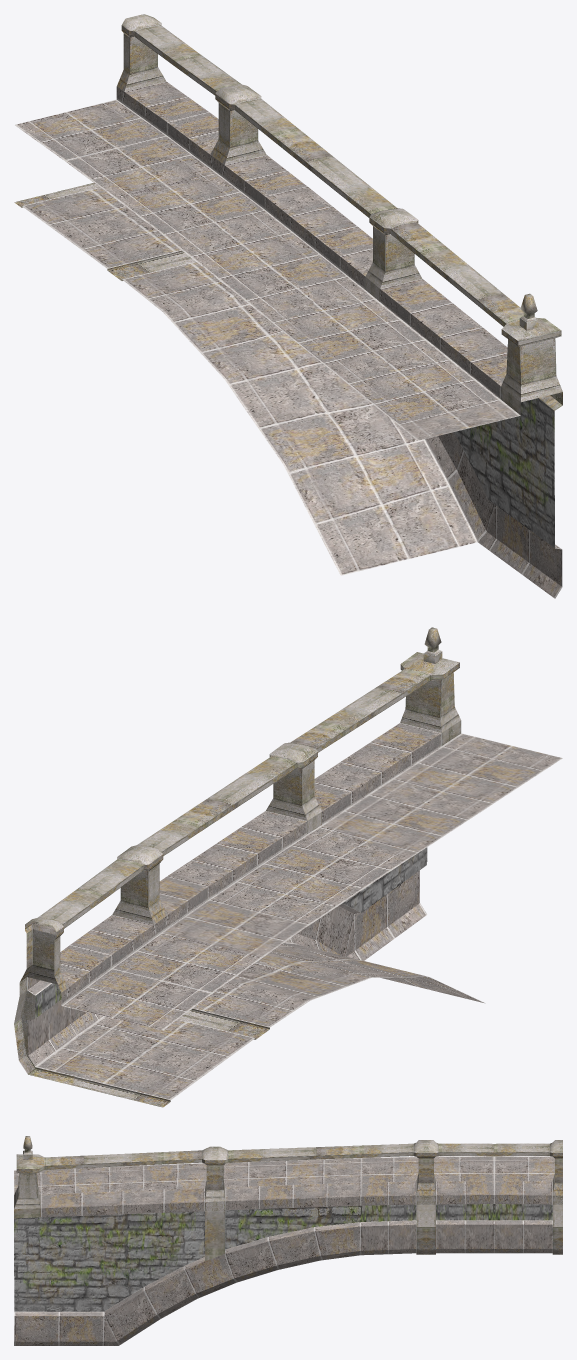
Rendered from Small_Bridge.fbx.
3 views of the same model, one above another, from view 1: azimuth 30°, elevation 25°; view 2: azimuth 150°, elevation 25°; view 3: azimuth 270°, elevation 25° (orthographic). The views are drawn at different scales.
Parts seen in each view (by area): view 1: Bridge_Side, bridge_mid, Bridge_Part; view 2: Bridge_Side, bridge_mid, Bridge_Part; view 3: Bridge_Side, bridge_mid, Bridge_Part.
Part boxes in pixels (x1,y1,x2,y2): Bridge_Side: [163, 129, 562, 598]; bridge_mid: [14, 14, 253, 276]; Bridge_Part: [115, 88, 307, 311]; Bridge_Side: [167, 627, 562, 1003]; bridge_mid: [14, 848, 262, 1107]; Bridge_Part: [125, 820, 309, 1034]; Bridge_Side: [14, 1136, 360, 1345]; bridge_mid: [425, 1140, 562, 1254]; Bridge_Part: [361, 1140, 426, 1255].
Bounding box in the file's own units: 225 × 428 × 1046.
